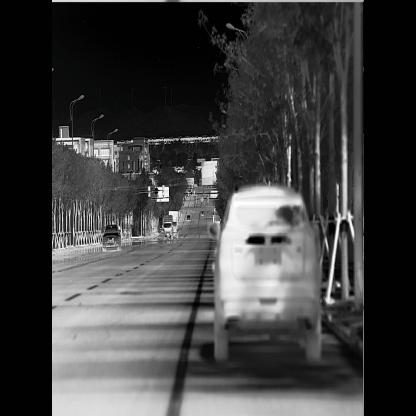car: (208, 183, 322, 363), (102, 223, 121, 251), (169, 211, 180, 240), (163, 214, 172, 240), (214, 217, 220, 224), (188, 187, 192, 196), (186, 214, 190, 220), (199, 179, 202, 187), (201, 210, 203, 216)
